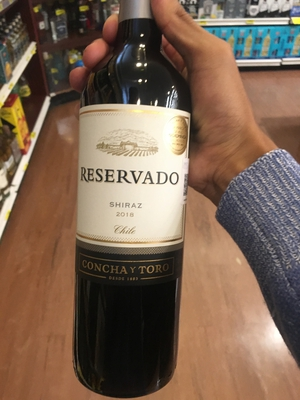reservado shiraz: (77, 18, 190, 400)
